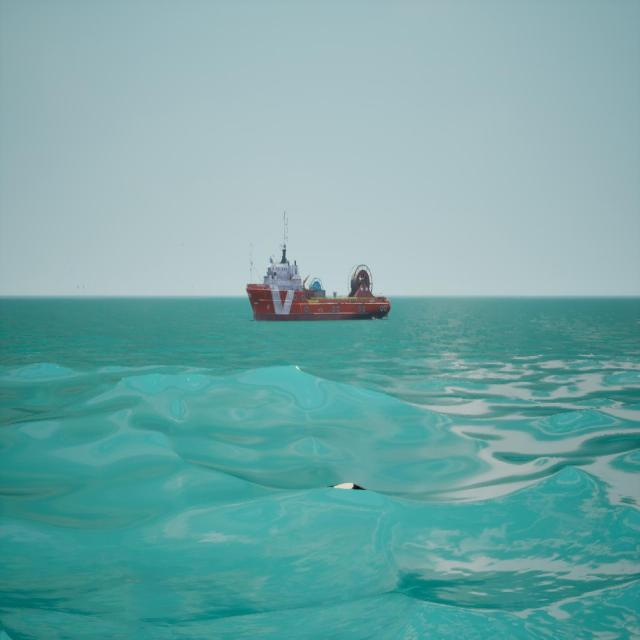tug boat: (246, 211, 392, 327)
